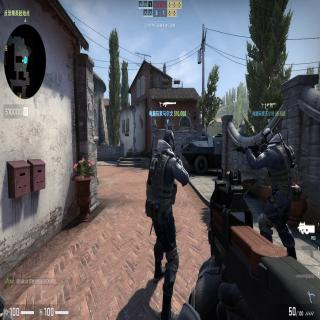CT-Body: (255, 124, 303, 220)
CT-Head: (258, 127, 272, 147), (165, 128, 175, 154)
